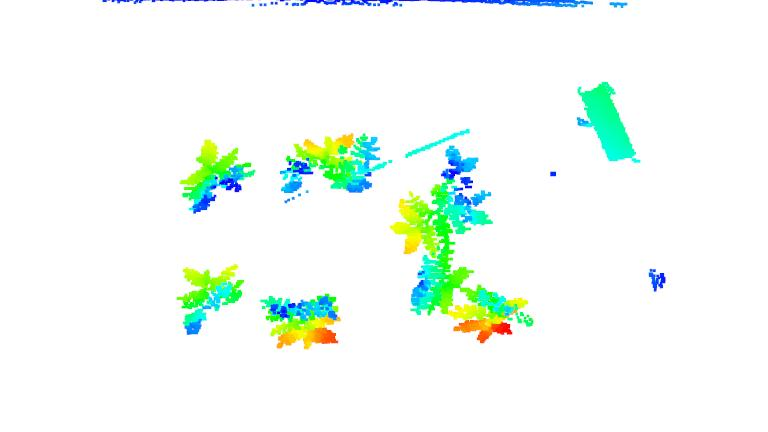chickpea: (390, 145, 497, 254), (277, 132, 383, 206), (174, 137, 257, 215), (175, 262, 246, 337), (262, 289, 342, 354), (409, 244, 476, 320), (452, 283, 535, 342)
